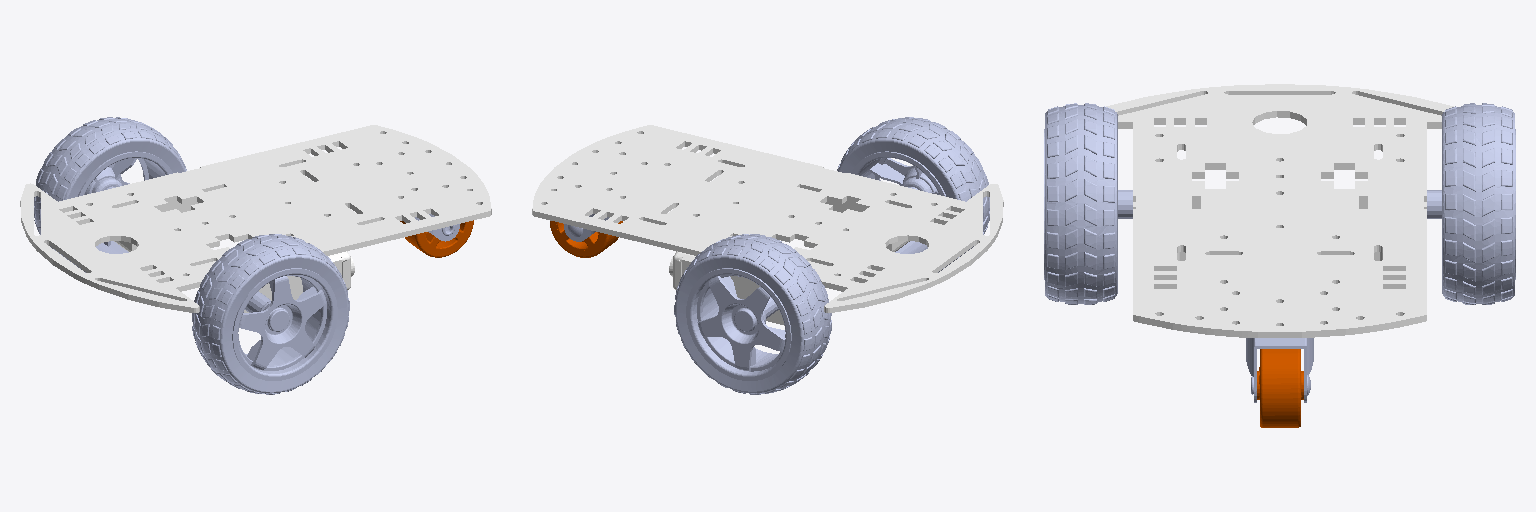
URDF robot description (line_follower_robot):
<?xml version="1.0"?>
<robot name="line_follower_robot">

  <!-- ========================= -->
  <!-- world link -->
  <!-- ========================= -->
  <link name="world"/>
  <joint name="world_joint" type="fixed">
    <parent link="world"/>
    <child link="base_link"/>
    <origin xyz="0 0 1" rpy="0 0 0"/>
  </joint>

  <!-- ========================= -->
  <!-- Base link -->
  <!-- ========================= -->
  <link name="base_link">
    <inertial>
      <origin xyz="0.010085 -0.0000078763 -0.0066048" rpy="0 0 0"/>
      <mass value="0.12859"/>
      <inertia ixx="5.2146E-05" ixy="0" ixz="0"
               iyy="0.00017957" iyz="0" izz="0.00022799"/>
    </inertial>
    <visual>
      <origin xyz="0 0 0" rpy="0 0 0"/>
      <geometry>
        <mesh filename="package://line_follower_robot/meshes/base_link.STL"/>
      </geometry>
      <material name="">
        <color rgba="1 1 1 0.3"/>
      </material>
    </visual>
    <collision>
      <origin xyz="0 0 0" rpy="0 0 0"/>
      <geometry>
        <mesh filename="package://line_follower_robot/meshes/base_link.STL"/>
      </geometry>
    </collision>
  </link>

  <!-- ========================= -->
  <!-- Left wheel link -->
  <!-- ========================= -->
  <link name="left_wheel">
    <inertial>
      <origin xyz="0 0 -0.0073729" rpy="0 0 0"/>
      <mass value="0.021404"/>
      <inertia ixx="8.6283E-06" ixy="0" ixz="0" iyy="8.6269E-06" iyz="0" izz="1.4515E-05"/>
    </inertial>
    <visual>
      <origin xyz="0 0 0" rpy="0 0 0"/>
      <geometry>
        <mesh filename="package://line_follower_robot/meshes/left_wheel.STL"/>
      </geometry>
      <material name="">
        <color rgba="0.79216 0.81961 0.93333 1"/>
      </material>
    </visual>
    <collision>
      <origin xyz="0 0 0" rpy="0 0 0"/>
      <geometry>
        <mesh filename="package://line_follower_robot/meshes/left_wheel.STL"/>
      </geometry>
    </collision>
  </link>

  <joint name="left_wheel_joint" type="continuous">
    <origin xyz="-0.033259 0.07575 -0.01375" rpy="-1.5708 0 0"/>
    <parent link="base_link"/>
    <child link="left_wheel"/>
    <axis xyz="0 0 1"/>
  </joint>

  <!-- ========================= -->
  <!-- Right wheel link -->
  <!-- ========================= -->
  <link name="right_wheel">
    <inertial>
      <origin xyz="0 0 0.0073729" rpy="0 0 0"/>
      <mass value="0.021404"/>
      <inertia ixx="8.6283E-06" ixy="0" ixz="0" iyy="8.6269E-06" iyz="0" izz="1.4515E-05"/>
    </inertial>
    <visual>
      <origin xyz="0 0 0" rpy="0 0 0"/>
      <geometry>
        <mesh filename="package://line_follower_robot/meshes/right_wheel.STL"/>
      </geometry>
      <material name="">
        <color rgba="0.79216 0.81961 0.93333 1"/>
      </material>
    </visual>
    <collision>
      <origin xyz="0 0 0" rpy="0 0 0"/>
      <geometry>
        <mesh filename="package://line_follower_robot/meshes/right_wheel.STL"/>
      </geometry>
    </collision>
  </link>

  <joint name="right_wheel_joint" type="continuous">
    <origin xyz="-0.033259 -0.07575 -0.01375" rpy="-1.5708 0 0"/>
    <parent link="base_link"/>
    <child link="right_wheel"/>
    <axis xyz="0 0 1"/>
  </joint>

  <!-- ========================= -->
  <!-- Castor links -->
  <!-- ========================= -->
  <link name="castor_base_link">
    <visual>
      <geometry>
        <mesh filename="package://line_follower_robot/meshes/castor_base_link.STL"/>
      </geometry>
      <material name="">
        <color rgba="0.79216 0.81961 0.93333 1"/>
      </material>
    </visual>
    <inertial>
      <origin xyz="0 0 0" rpy="0 0 0"/>
      <mass value="0.01"/>
      <inertia ixx="0.00001" ixy="0" ixz="0" iyy="0.00001" iyz="0" izz="0.00001"/>
    </inertial>
    <collision>
      <origin xyz="0 0 0" rpy="0 0 0"/>
      <geometry>
        <mesh filename="package://line_follower_robot/meshes/castor_wheel.STL"/>
      </geometry>
    </collision>
  </link>

  <joint name="castor_joint" type="continuous">
    <origin xyz="0.072581 0 -0.0025" rpy="0 0 0"/>
    <parent link="base_link"/>
    <child link="castor_base_link"/>
    <axis xyz="0 0 1"/>
  </joint>

  <link name="castor_wheel">
    <visual>
      <geometry>
        <mesh filename="package://line_follower_robot/meshes/castor_wheel.STL"/>
      </geometry>
    </visual>
    <inertial>
      <origin xyz="0 0 0" rpy="0 0 0"/>
      <mass value="0.01"/>
      <inertia ixx="0.00001" ixy="0" ixz="0" iyy="0.00001" iyz="0" izz="0.00001"/>
    </inertial>
    <collision>
      <origin xyz="0 0 0" rpy="0 0 0"/>
      <geometry>
        <mesh filename="package://line_follower_robot/meshes/castor_wheel.STL"/>
      </geometry>
    </collision>    
  </link>

  <joint name="castor_wheel_joint" type="continuous">
    <origin xyz="0.015014 0.00014167 -0.02296" rpy="-1.5708 0 0"/>
    <parent link="castor_base_link"/>
    <child link="castor_wheel"/>
    <axis xyz="0 0 1"/>
  </joint>

</robot>

--- What the picture shows (computed from the rendered views, not written in the file) ---
The picture shows the robot from 3 angles, left to right: view 1: azimuth 30°, elevation 25°; view 2: azimuth 150°, elevation 25°; view 3: azimuth 270°, elevation 25°; orthographic projection.
Model line_follower_robot with 6 links and 5 joints (4 continuous, 1 fixed), rooted at world, posed all joints at 0.
Links seen in each view (by area): view 1: base_link, right_wheel, left_wheel, castor_wheel; view 2: base_link, left_wheel, right_wheel, castor_wheel; view 3: base_link, left_wheel, right_wheel, castor_wheel, castor_base_link.
Link boxes in pixels (left/top/right/bottom): base_link: left=20, top=125, right=491, bottom=312; right_wheel: left=192, top=234, right=349, bottom=394; left_wheel: left=34, top=117, right=186, bottom=272; castor_wheel: left=400, top=220, right=473, bottom=257; base_link: left=532, top=125, right=1003, bottom=325; left_wheel: left=674, top=234, right=831, bottom=394; right_wheel: left=837, top=117, right=989, bottom=272; castor_wheel: left=550, top=221, right=622, bottom=257; base_link: left=1106, top=84, right=1453, bottom=337; left_wheel: left=1427, top=103, right=1515, bottom=304; right_wheel: left=1044, top=103, right=1132, bottom=304; castor_wheel: left=1257, top=349, right=1303, bottom=427; castor_base_link: left=1246, top=338, right=1313, bottom=402.
Bounding box of the posed robot: 0.2029 × 0.1605 × 0.0689 m (x, y, z).
5 mesh visuals loaded from 5 distinct referenced files (5 binary STL).